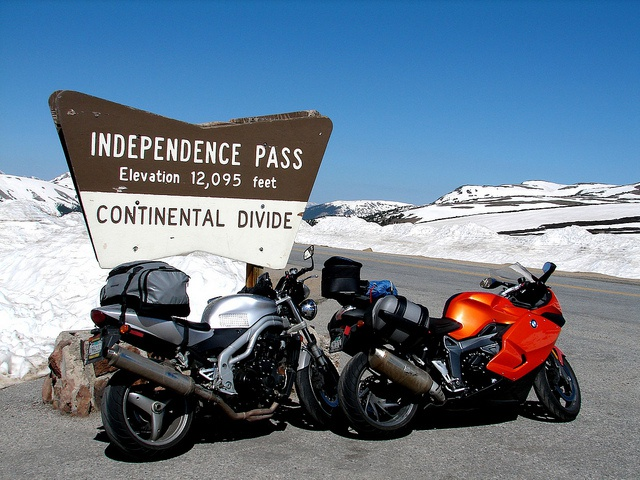non-vehicle: (79, 245, 343, 456), (320, 254, 580, 437)
